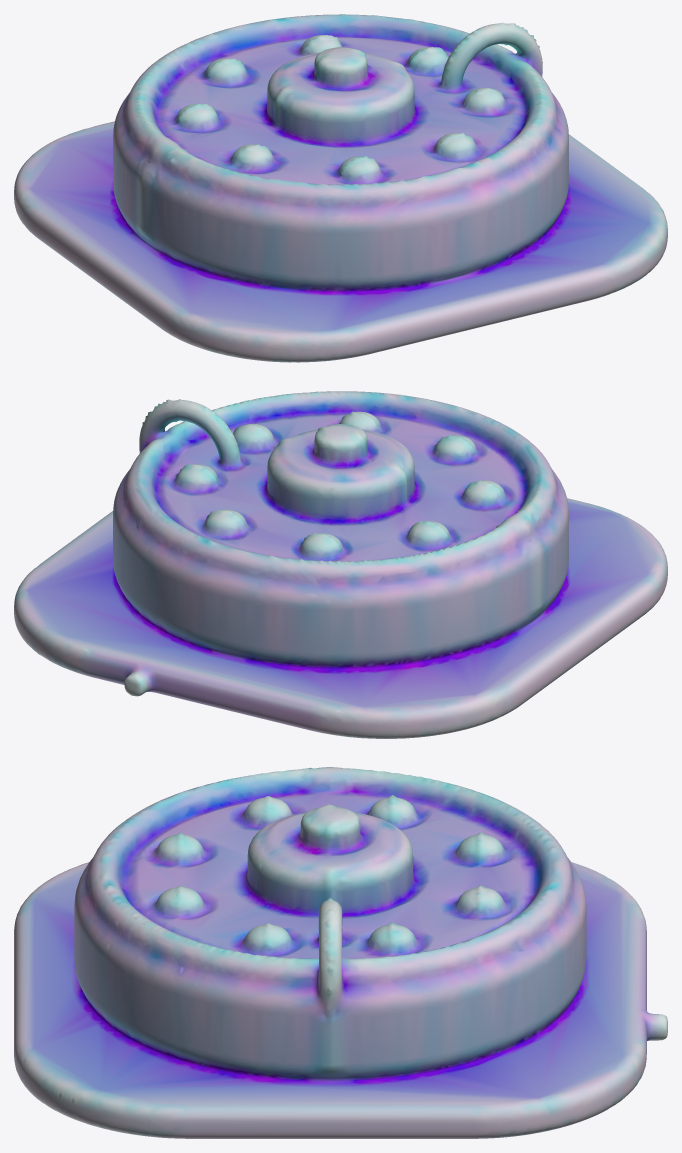
Rendered from mine.glb.
3 views of the same model, one above another, from view 1: azimuth 30°, elevation 25°; view 2: azimuth 150°, elevation 25°; view 3: azimuth 270°, elevation 25° (orthographic). The views are drawn at different scales.
Parts seen in each view (by area): view 1: mine; view 2: mine; view 3: mine.
Part boxes in pixels (x1,y1,x2,y2): mine: [14, 14, 667, 362]; mine: [14, 391, 667, 738]; mine: [14, 767, 667, 1138].
Size of the model in its own units: 0.4199 by 0.1438 by 0.434.
